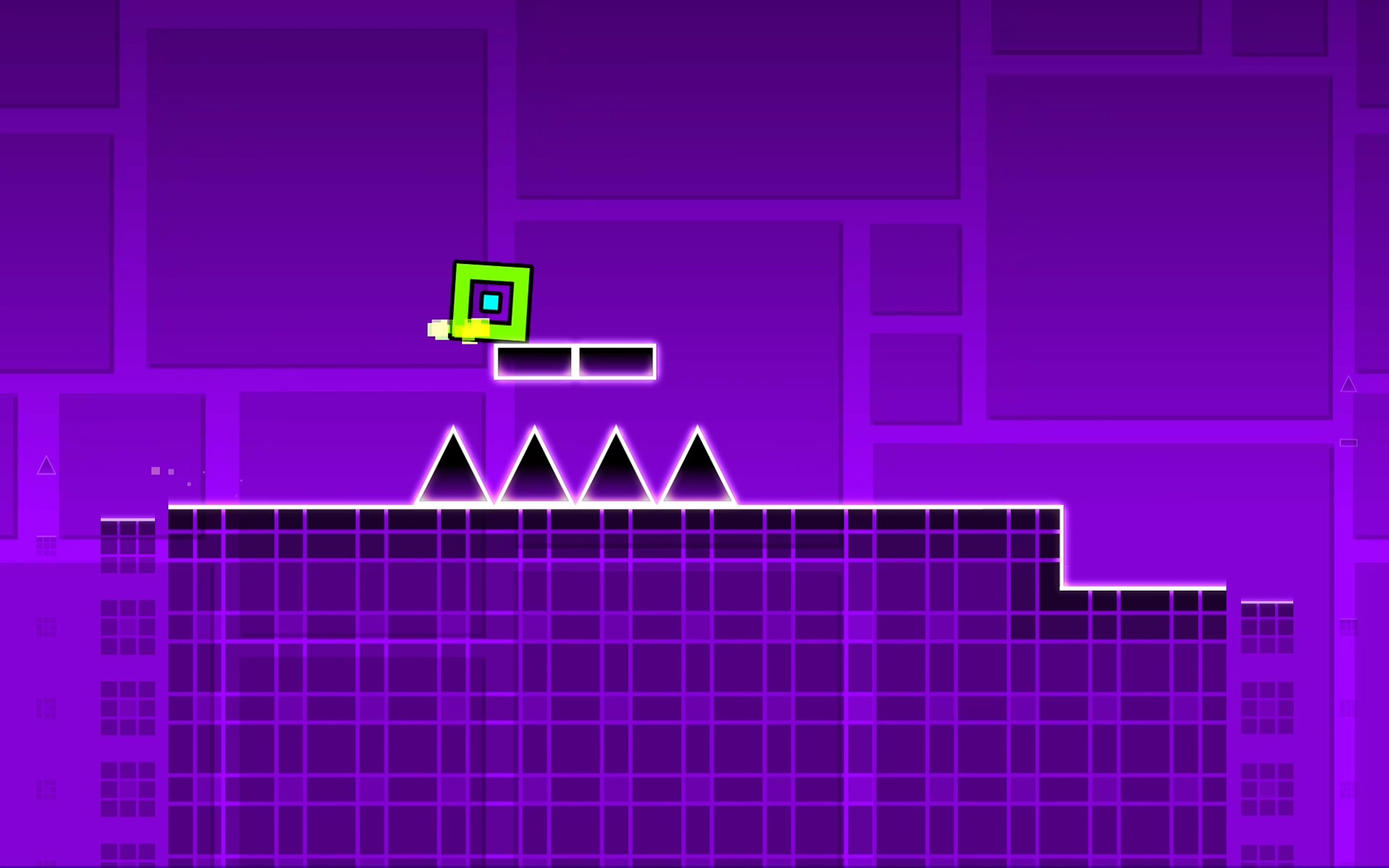Block2: (98, 505, 1056, 868), (1061, 584, 1299, 868)
Block3: (490, 343, 580, 385), (576, 345, 651, 383)
Player: (450, 262, 532, 341)
Spike: (661, 426, 734, 503), (498, 426, 571, 501), (417, 426, 489, 502), (580, 426, 652, 501)
